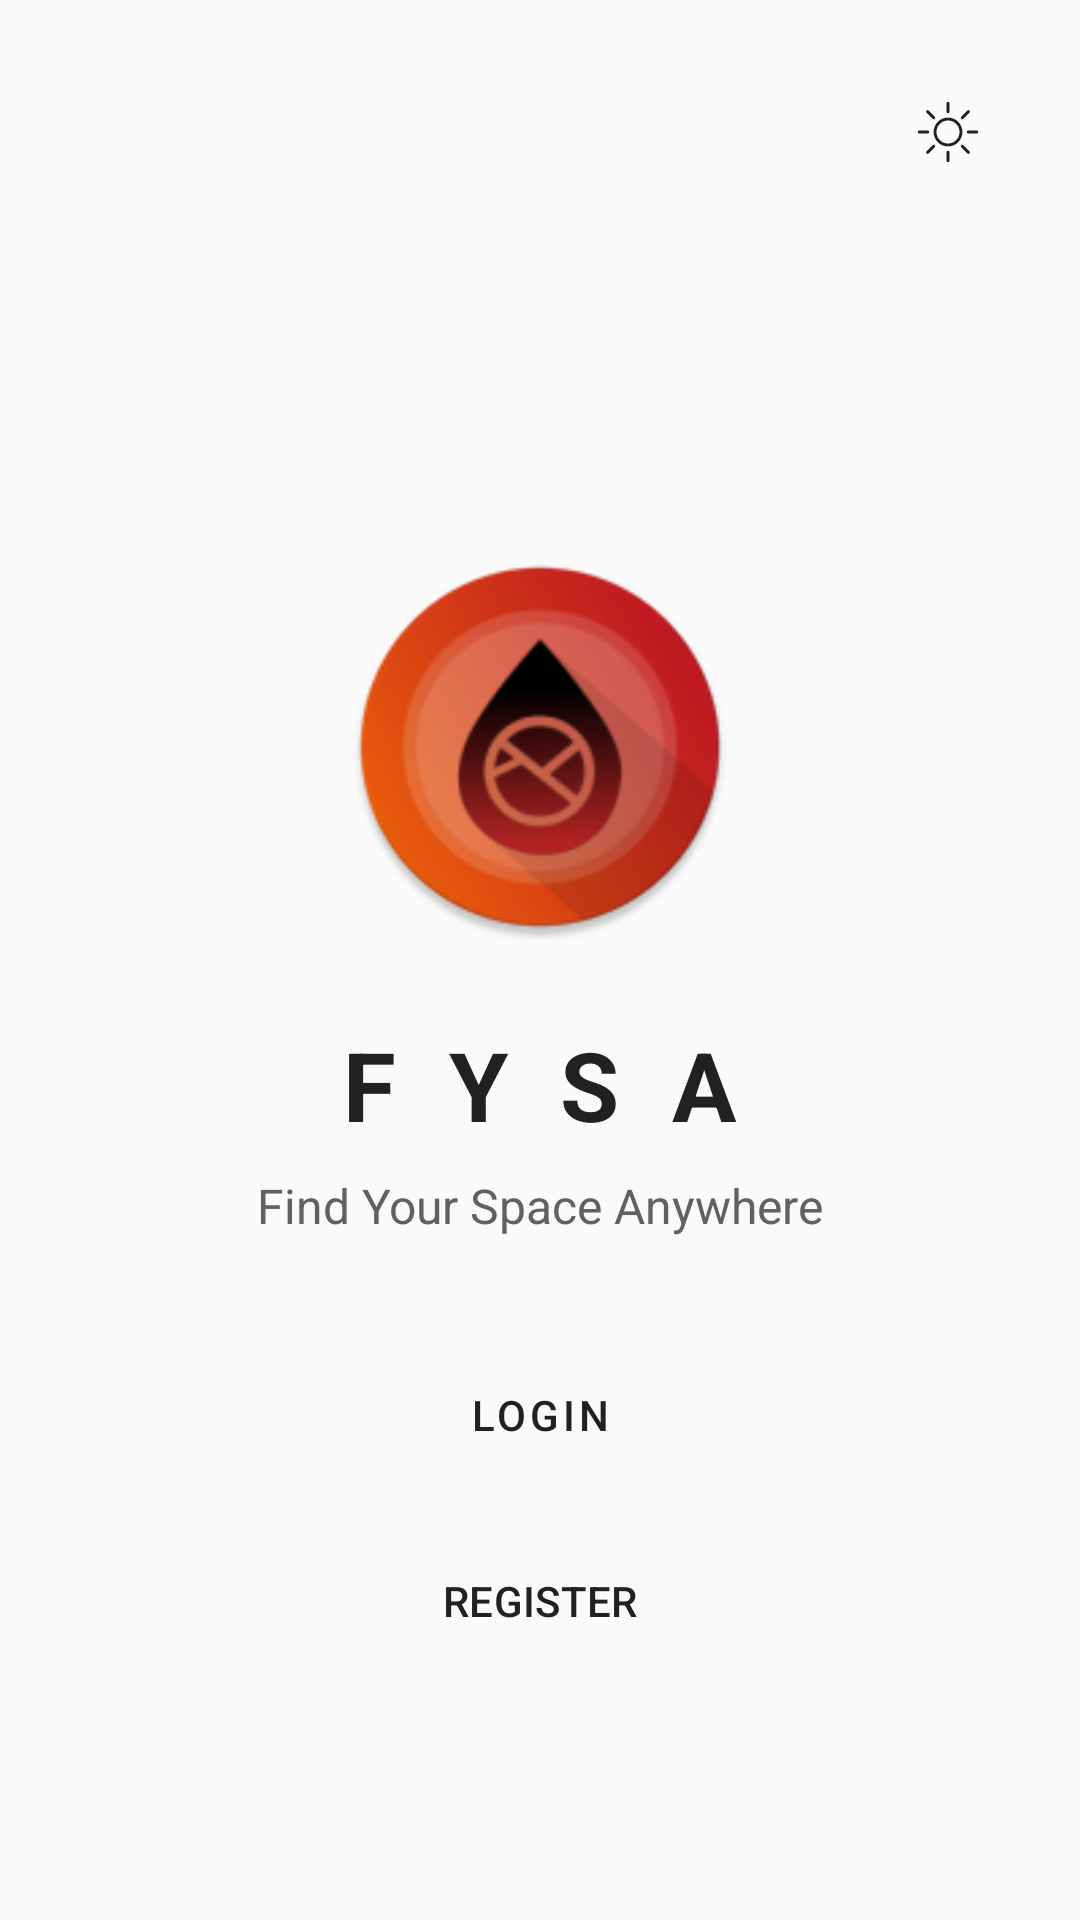

Named icons in this screenshot (1080×1920) and their centers, (x=x, y=y):
theme button: (x=948, y=132)
